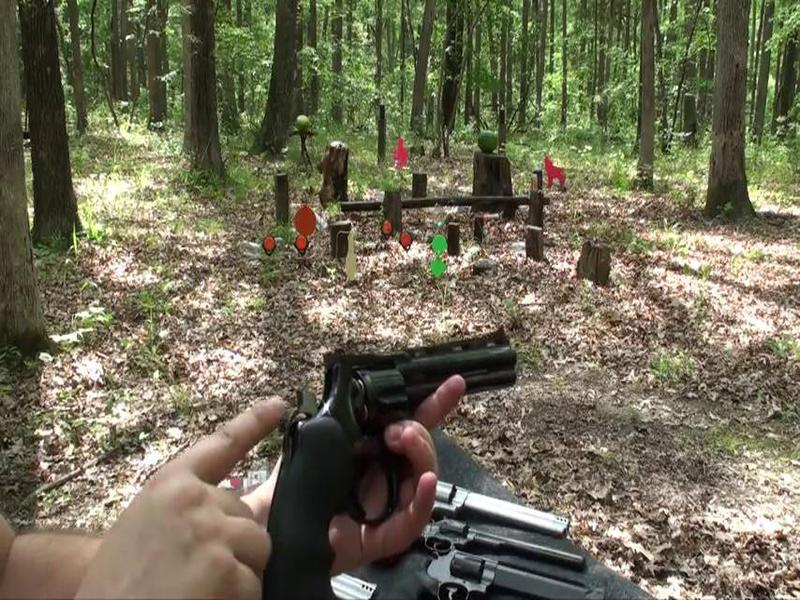Revolver: (234, 314, 531, 580)
